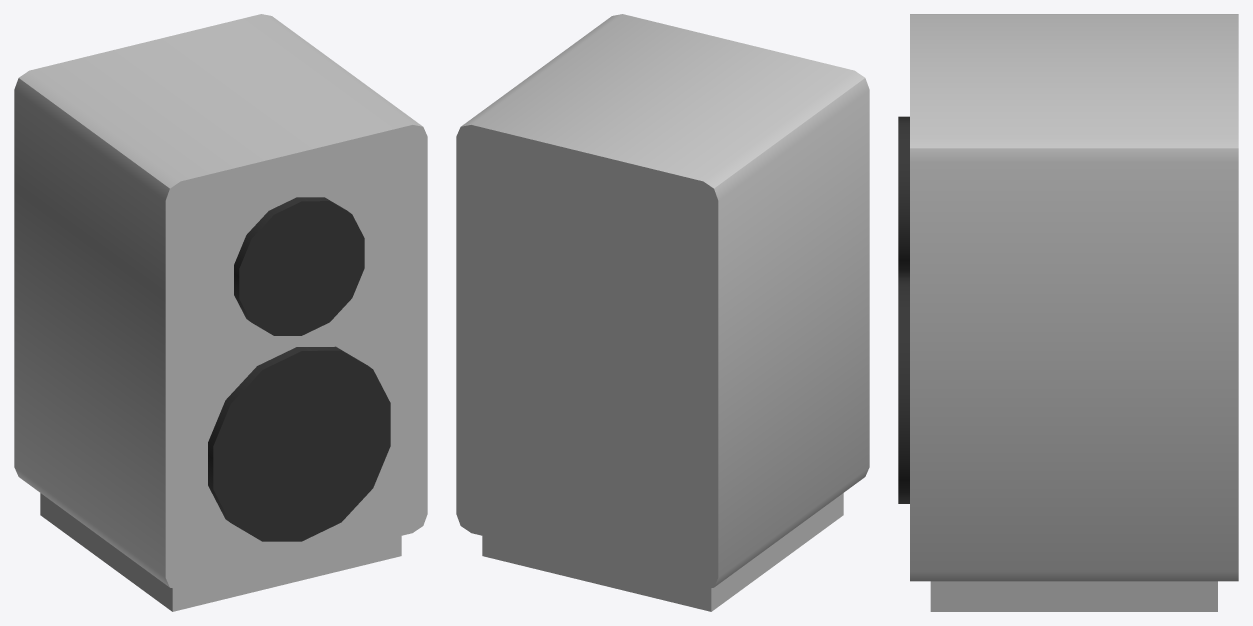
File: speaker.glb
3 renders of one model, left to right at view 1: azimuth 30°, elevation 25°; view 2: azimuth 150°, elevation 25°; view 3: azimuth 270°, elevation 25°, orthographic. The views are drawn at different scales.
Visible parts, largest first — view 1: Speaker 2; view 2: Speaker 2; view 3: Speaker 2.
Part boxes in pixels (x1,y1,x2,y2): Speaker 2: (14, 14, 427, 611); Speaker 2: (456, 14, 869, 611); Speaker 2: (898, 14, 1238, 611).
Size of the model in its own units: 0.11 by 0.1755 by 0.1139.
1 material, 1 textured.
